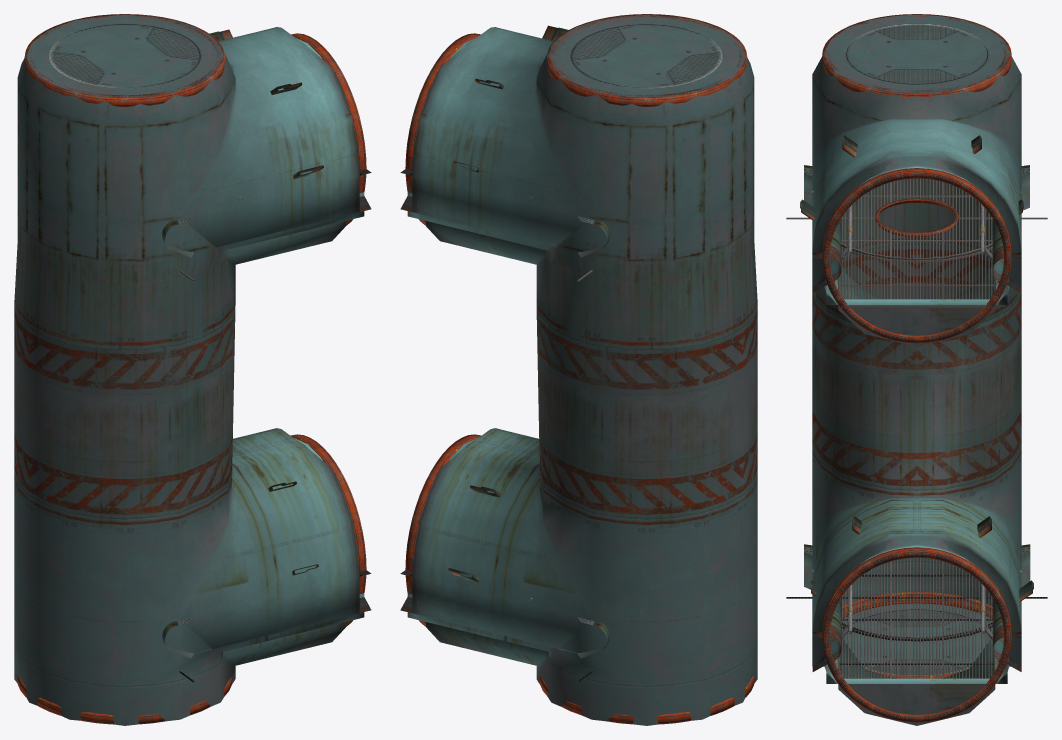
File: tau_tunnel_ladder_uturn.dae
The picture shows the model from 3 angles, left to right: view 1: azimuth 30°, elevation 25°; view 2: azimuth 150°, elevation 25°; view 3: azimuth 270°, elevation 25°; orthographic projection. The views are drawn at different scales.
Parts seen in each view (by area): view 1: polySurface455, pPipe52, pPipe50, pPipe51, pPipe53; view 2: polySurface455, pPipe52, pPipe50, pPipe51, pPipe53, polySurface388; view 3: polySurface455, pPipe51, pPipe50, polySurface129, polySurface101, polySurface128, polySurface93, polySurface388, polySurface389, pPipe52, polySurface96, polySurface97 (+5 smaller).
Boxes of the visible parts, x1,y1,x2,y2 form: polySurface455: (14, 14, 364, 725); pPipe52: (24, 14, 224, 106); pPipe50: (290, 434, 366, 626); pPipe51: (291, 33, 366, 225); pPipe53: (17, 676, 231, 724); polySurface455: (407, 14, 757, 725); pPipe52: (547, 14, 747, 106); pPipe50: (405, 434, 481, 626); pPipe51: (405, 33, 480, 225); pPipe53: (540, 676, 754, 724); polySurface388: (400, 570, 609, 658); polySurface455: (812, 14, 1021, 725); pPipe51: (822, 168, 1011, 343); pPipe50: (822, 547, 1011, 722); polySurface129: (838, 246, 995, 308); polySurface101: (786, 178, 1047, 258); polySurface128: (838, 624, 995, 678); polySurface93: (891, 557, 942, 638); polySurface388: (804, 544, 1030, 671); polySurface389: (804, 165, 1029, 292); pPipe52: (822, 14, 1011, 97); polySurface96: (786, 561, 890, 637); polySurface97: (943, 561, 1047, 637).
Size of the model in its own units: 6 by 12.43 by 5.
